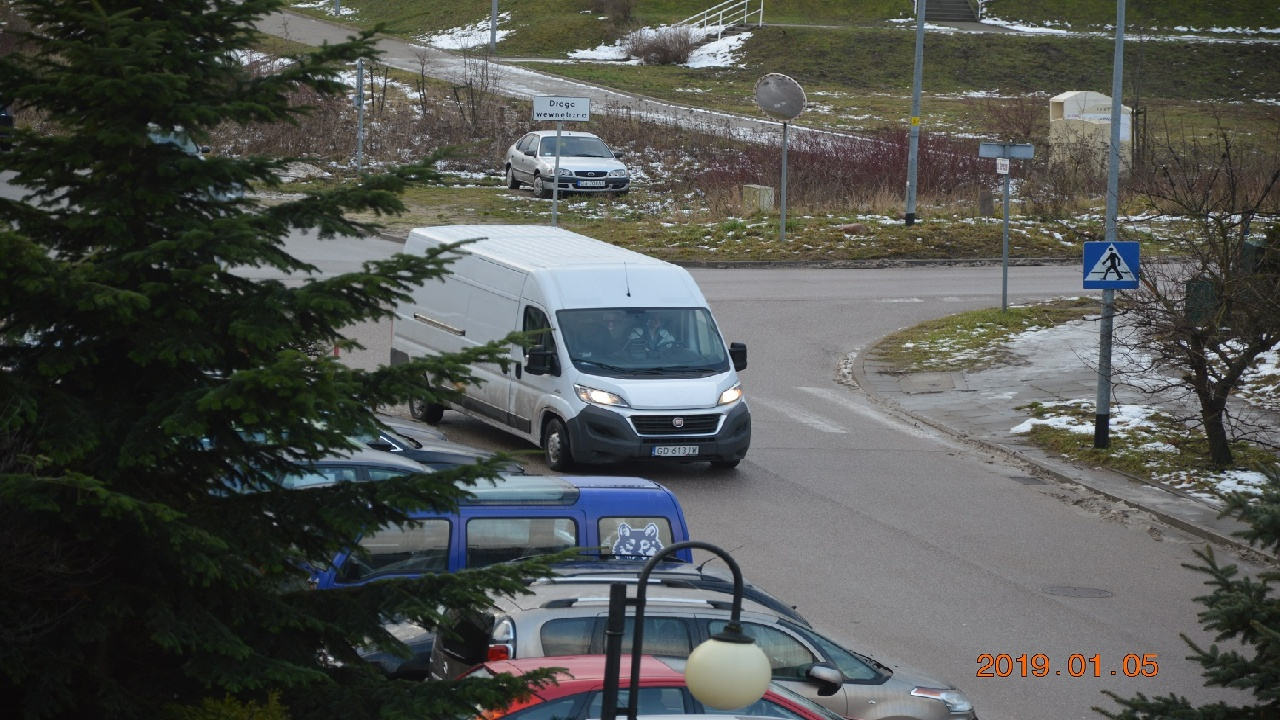D6: (1082, 240, 1141, 291)
